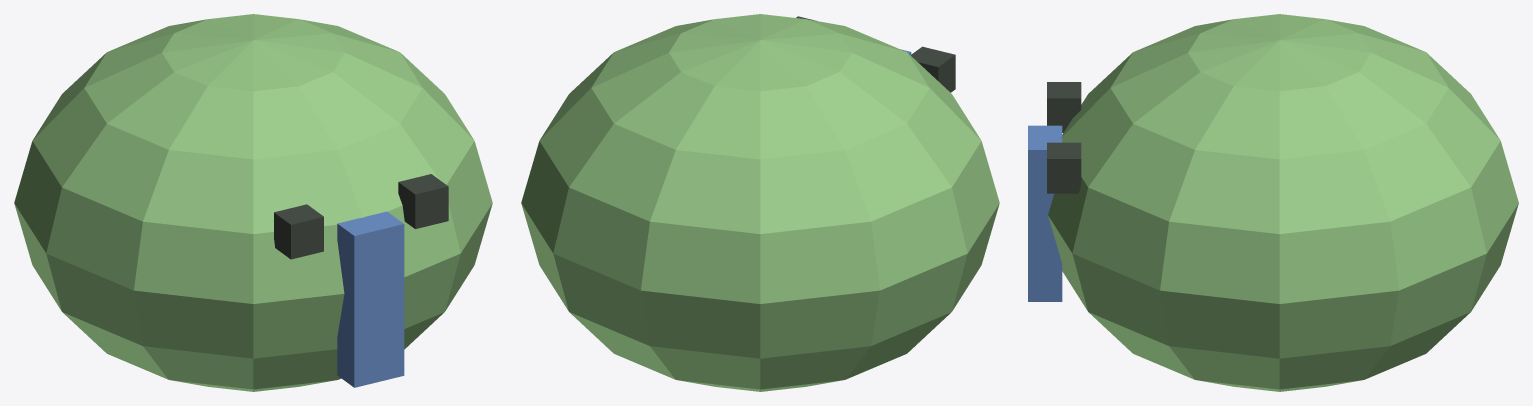
Rendered from slimelet.glb.
3 views of the same model, side by side, from view 1: azimuth 30°, elevation 25°; view 2: azimuth 150°, elevation 25°; view 3: azimuth 270°, elevation 25° (orthographic).
Visible parts, largest first — view 1: BodyMesh; view 2: BodyMesh; view 3: BodyMesh.
Part boxes in pixels (x1=…): BodyMesh: x1=14, y1=14, x2=492, y2=391; BodyMesh: x1=521, y1=14, x2=999, y2=391; BodyMesh: x1=1028, y1=14, x2=1518, y2=391.
Size of the model in its own units: 0.28 by 0.21 by 0.2872.
